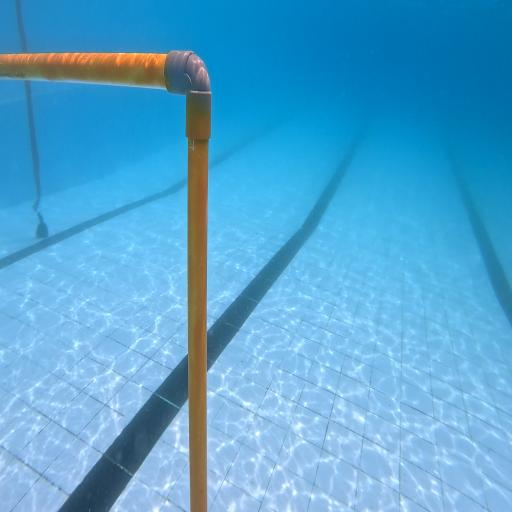gate: (0, 50, 211, 512)
